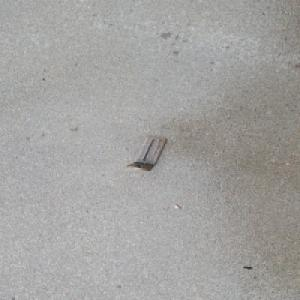MetalPart: (125, 135, 167, 171)
